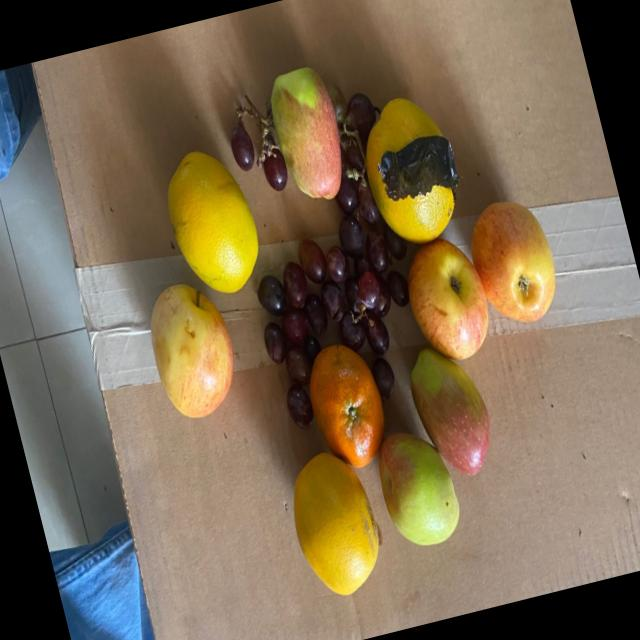bolsa_negra: (372, 130, 459, 200)
